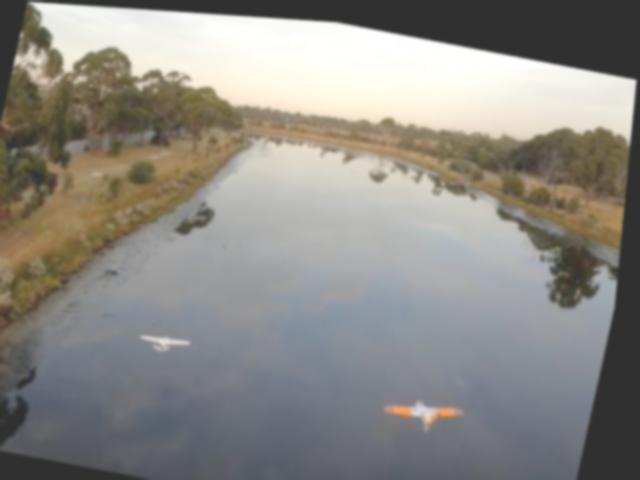uav: (386, 383, 474, 430), (140, 326, 200, 360)
